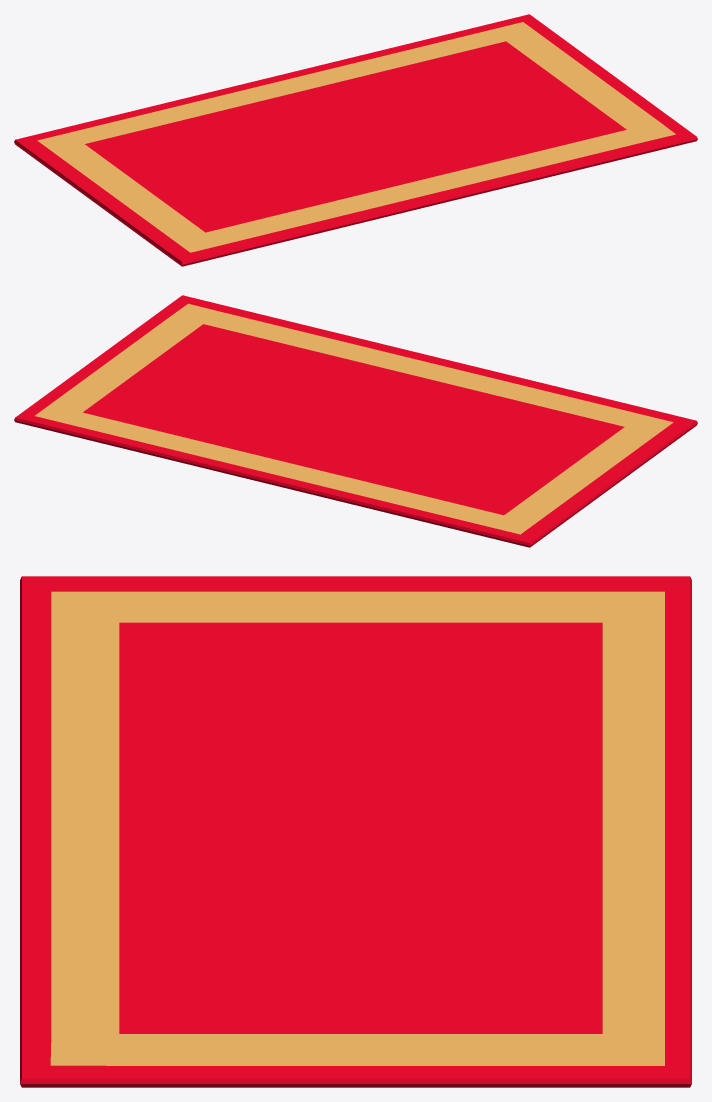
File: Carpet_1A.fbx
3 views of the same model, one above another, from view 1: azimuth 30°, elevation 25°; view 2: azimuth 150°, elevation 25°; view 3: azimuth 270°, elevation 25° (orthographic). The views are drawn at different scales.
Parts seen in each view (by area): view 1: pCube1665; view 2: pCube1665; view 3: pCube1665.
Boxes of the visible parts, x1,y1,x2,y2 form: pCube1665: [14, 14, 697, 266]; pCube1665: [14, 295, 697, 547]; pCube1665: [20, 576, 691, 1087].
Size of the model in its own units: 229 by 2.01 by 129.
